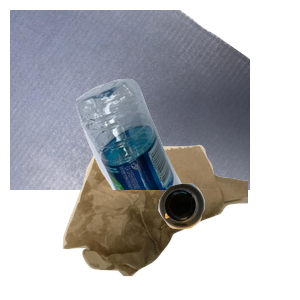cardboard: (10, 10, 250, 190)
glass: (156, 181, 300, 300)
plastic: (73, 76, 300, 256)
trash: (60, 142, 300, 300)
